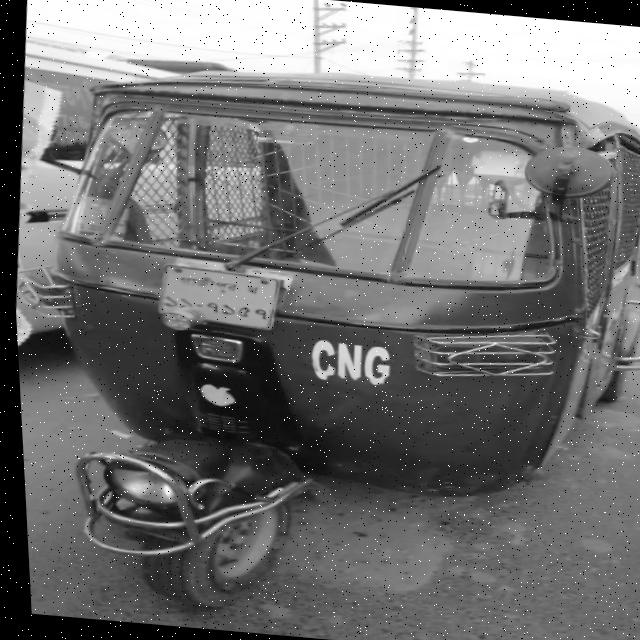cng: (10, 30, 640, 640)
